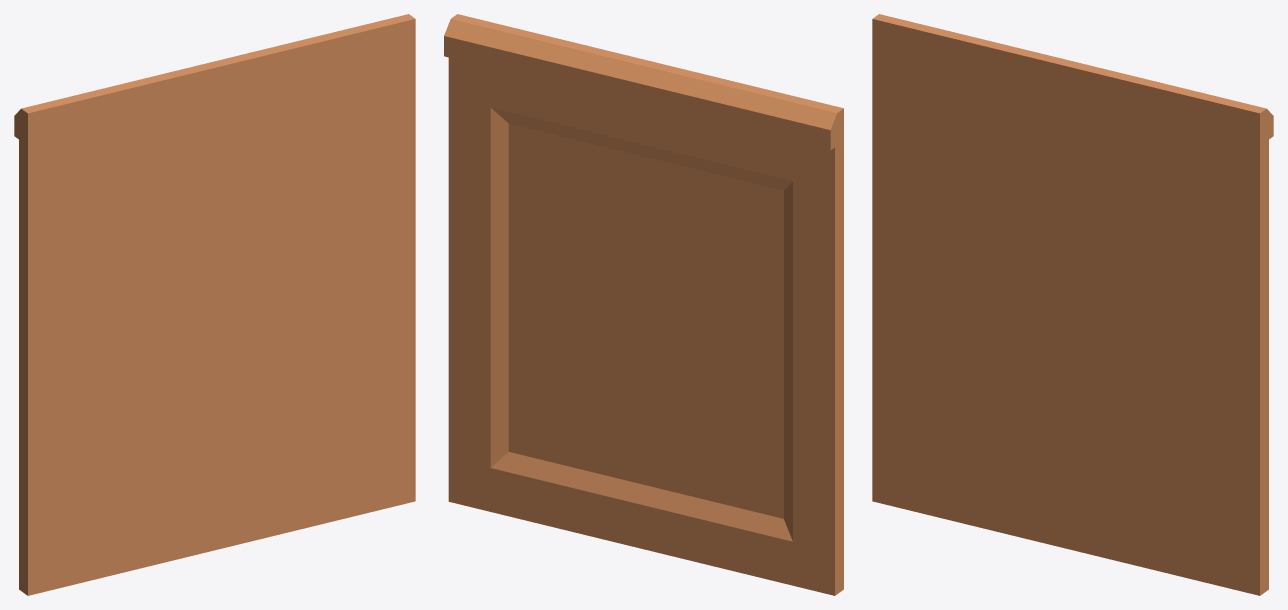
Rendered from paneling.obj.
3 renders of one model, left to right at view 1: azimuth 30°, elevation 25°; view 2: azimuth 150°, elevation 25°; view 3: azimuth 330°, elevation 25°, orthographic.
Parts seen in each view (by area): view 1: paneling; view 2: paneling; view 3: paneling.
Boxes of the visible parts, <box> form: paneling: <box>14,14,415,595</box>; paneling: <box>444,14,843,595</box>; paneling: <box>872,14,1273,595</box>.
Size of the model in its own units: 0.5 by 0.5948 by 0.03.
